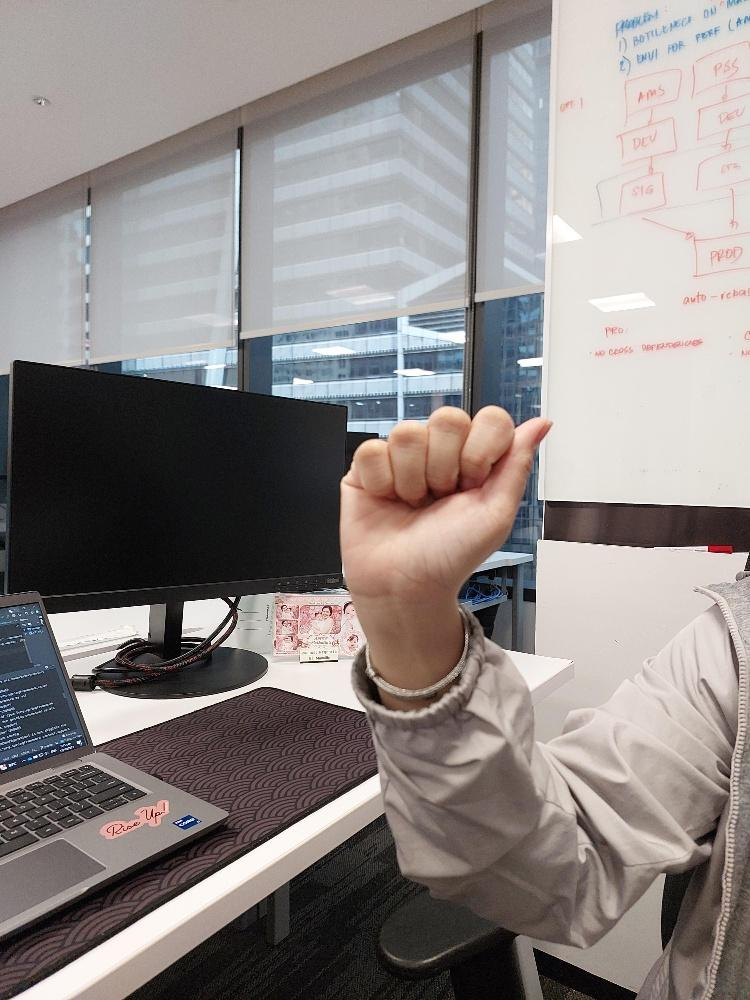a: (337, 404, 550, 585)
